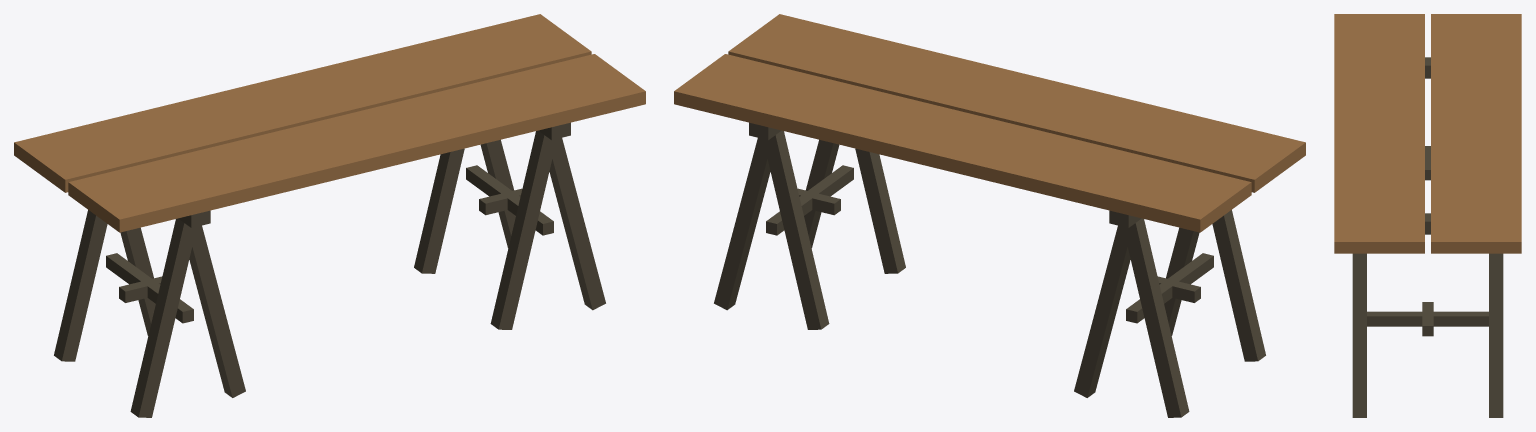
Rendered from TrestleTable.fbx.
3 views of the same model, side by side, from view 1: azimuth 30°, elevation 25°; view 2: azimuth 150°, elevation 25°; view 3: azimuth 270°, elevation 25° (orthographic). The views are drawn at different scales.
Visible parts, largest first — view 1: TrestleTable; view 2: TrestleTable; view 3: TrestleTable.
Boxes of the visible parts, x1,y1,x2,y2 form: TrestleTable: (14,14,645,417); TrestleTable: (674,14,1305,417); TrestleTable: (1334,14,1521,417).
Size of the model in its own units: 1.9 by 0.7463 by 0.66.
